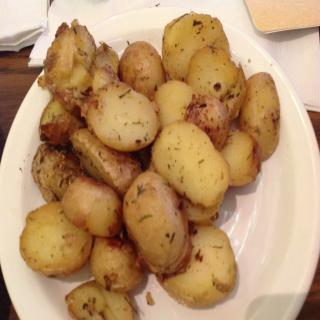Potato: (19, 8, 278, 320), (20, 198, 93, 279)
